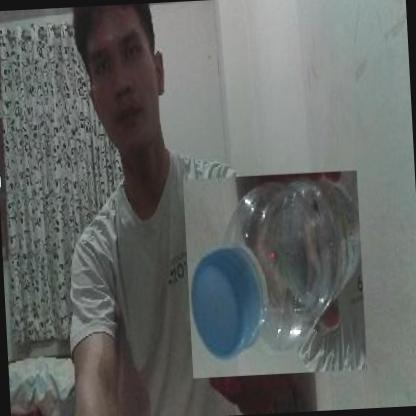plastic_bottles: (183, 170, 366, 378)
